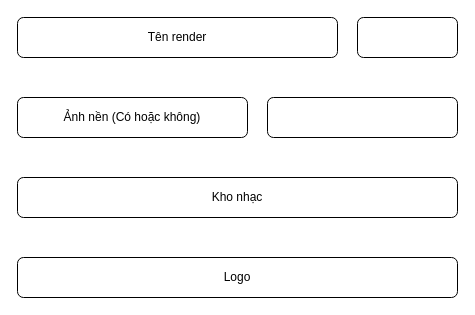
The diagram is 475 pixels wide and 315 high, and some of its shapes have lost their labels. The shapes that lost their labels are listed below. From the top down, each one's centre as x and y in pixels, then its label:
At [407,37]: "Sub_status".
At [362,117]: "H/Ứ nền (Có hoặc không)".
